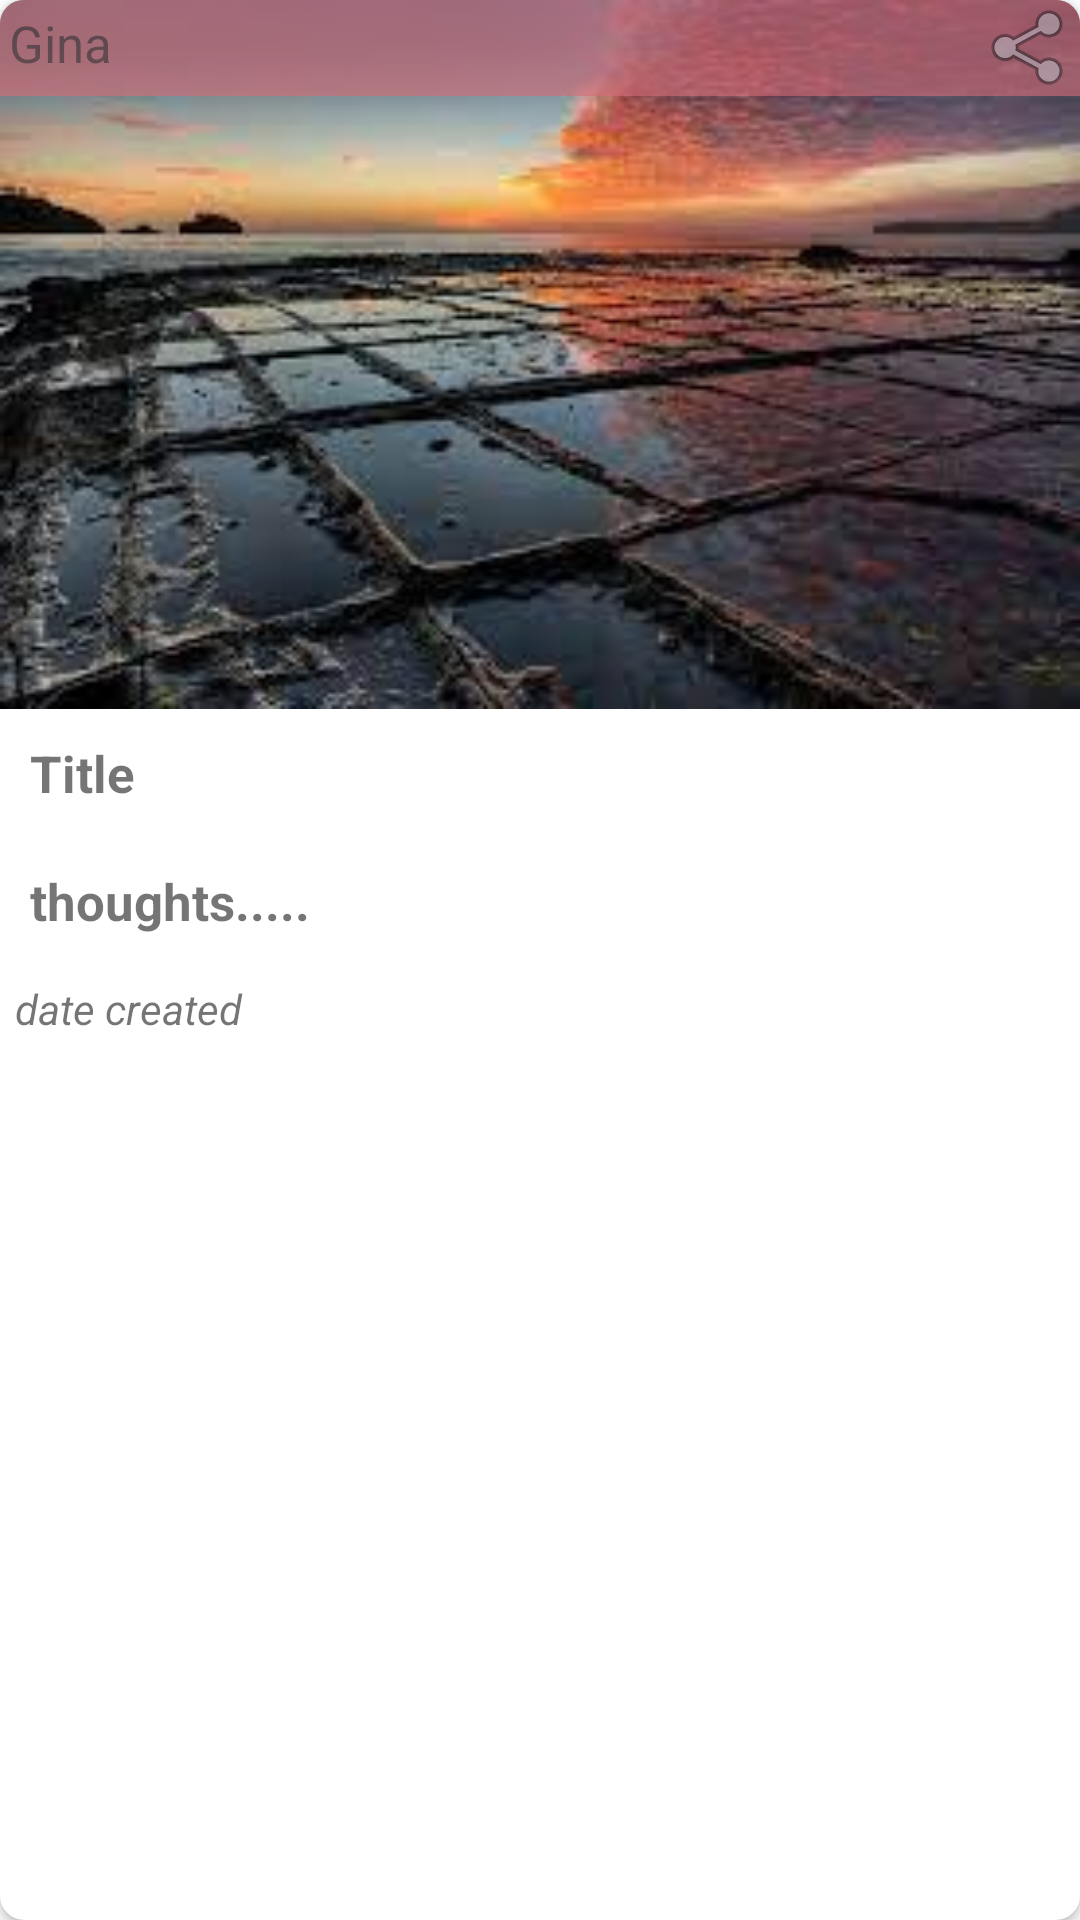

Where to tap for icons on this 1080w x 1920h app screen, as (x,y):
share: (1032,48)
